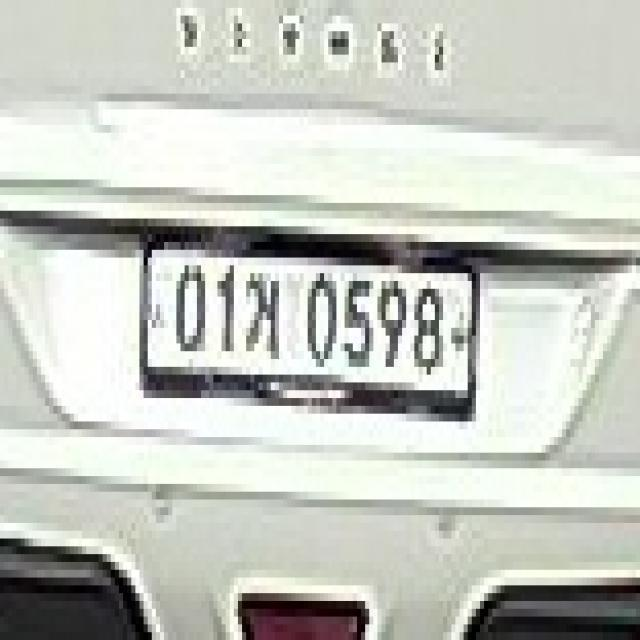0: (304, 260, 340, 382), (172, 254, 210, 362)
1: (213, 256, 240, 366)
5: (342, 275, 373, 370)
8: (414, 276, 444, 384)
9: (375, 276, 410, 376)
geo: (243, 266, 284, 368)
license_plate: (131, 222, 487, 443)
